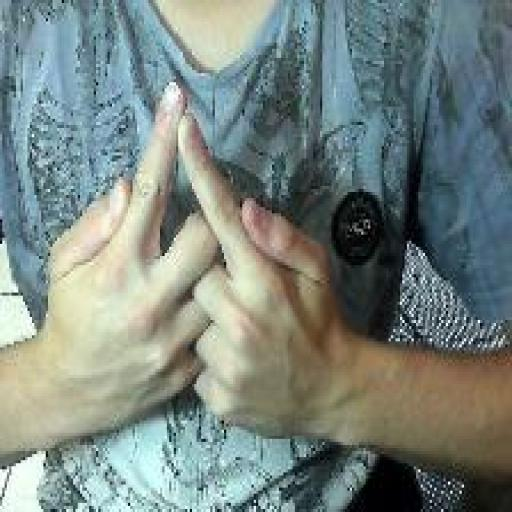Uma -horse-: (38, 78, 335, 443)
